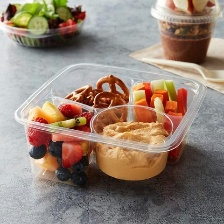plastic_box: (7, 57, 212, 199), (145, 0, 224, 69), (0, 0, 92, 52)
